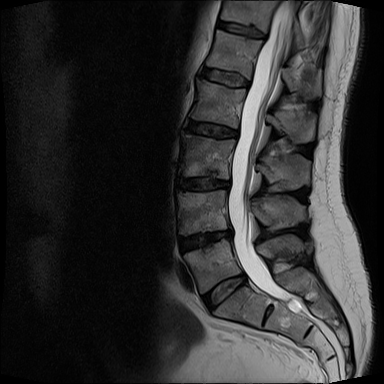Degenerative Disc Disease (DDD): (177, 109, 242, 146), (171, 170, 237, 196)
Lumbar Disc Bulge (LDB): (169, 217, 241, 260)
Normal IVD: (194, 267, 250, 320), (193, 58, 253, 93), (209, 14, 271, 45)
Spinal Stenosis (SS): (212, 217, 246, 248)
